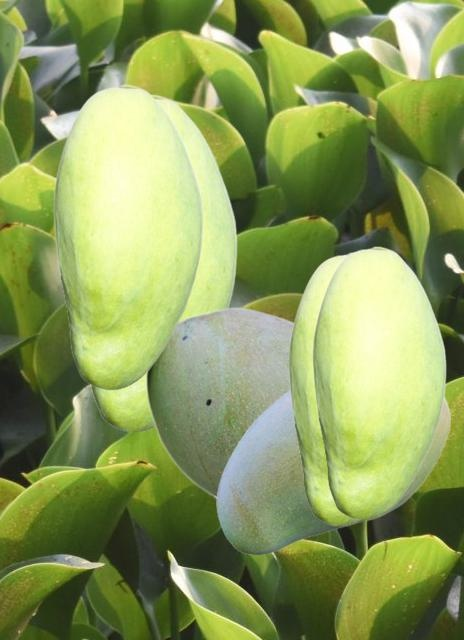green_mango: (88, 94, 236, 431), (53, 84, 202, 389), (216, 388, 450, 553), (312, 246, 445, 519), (145, 306, 292, 498), (288, 252, 363, 525)
